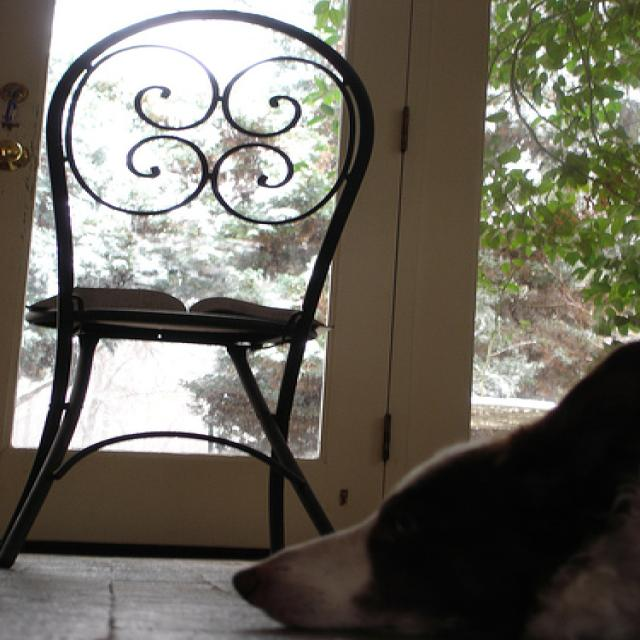chair: (0, 6, 375, 575)
